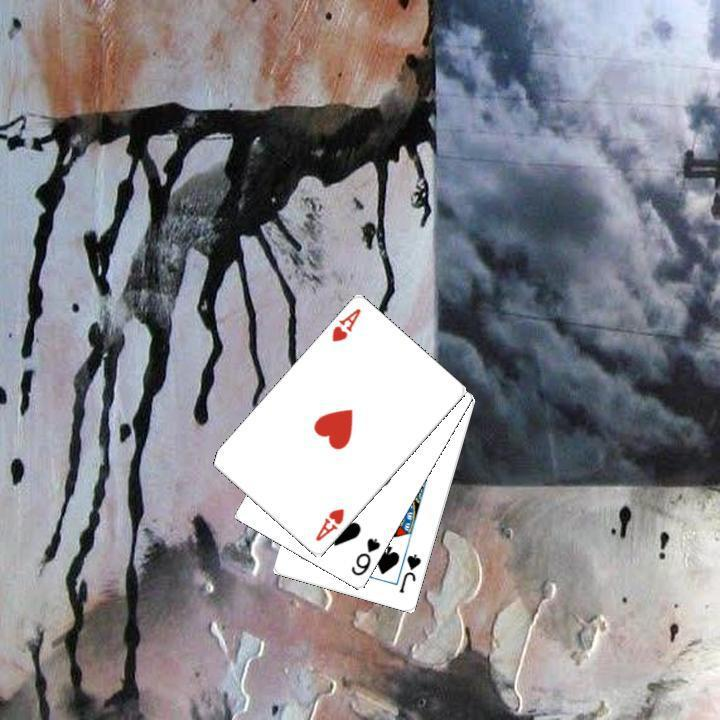6: (347, 534, 382, 578)
A: (327, 304, 363, 344), (311, 504, 346, 544)
J: (395, 550, 423, 595)
